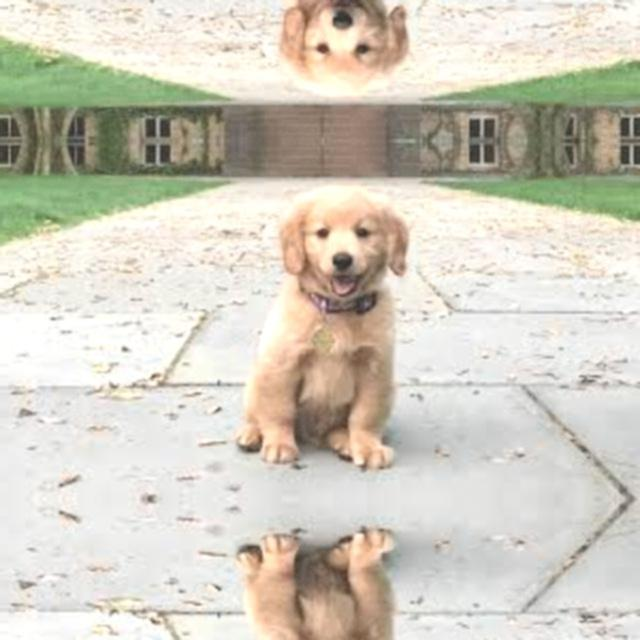dog: (230, 181, 418, 473), (230, 524, 418, 640), (230, 0, 418, 99)
